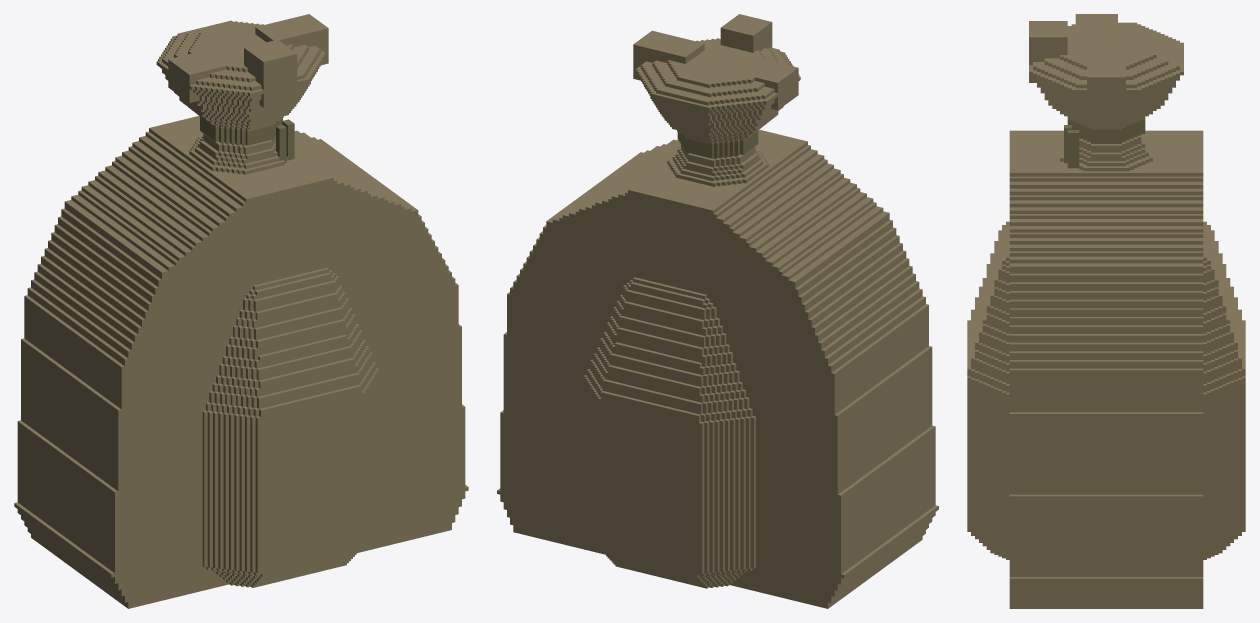
The model's file is bag_canvas.glb.
3 renders of one model, left to right at view 1: azimuth 30°, elevation 25°; view 2: azimuth 150°, elevation 25°; view 3: azimuth 270°, elevation 25°, orthographic. The views are drawn at different scales.
Visible parts, largest first — view 1: bag_canvas:compound; view 2: bag_canvas:compound; view 3: bag_canvas:compound.
Part boxes in pixels (x1,y1,x2,y2): bag_canvas:compound: [14, 14, 468, 608]; bag_canvas:compound: [497, 14, 938, 608]; bag_canvas:compound: [967, 14, 1245, 608].
Bounding box in the file's own units: 0.424 × 0.572 × 0.288.
